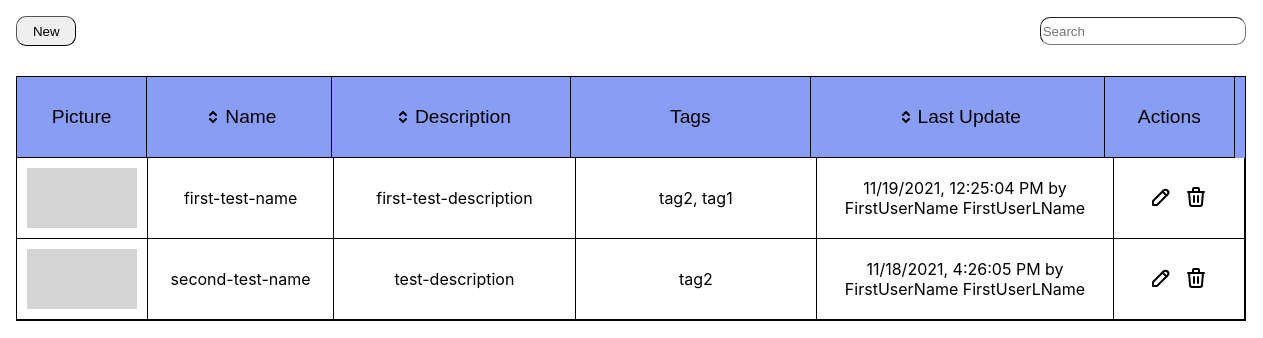
Test: search model › only finded model should be displayed in table
The width and height of the screenshot is (1263, 338).
Type "first-test-name" into the field with placeholder "Search" at (1143, 31), box [1040,17,1246,45]
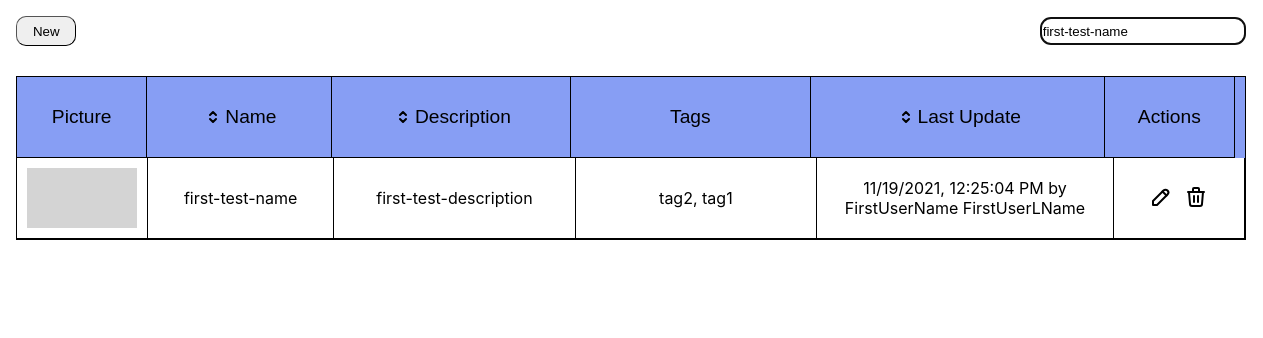
Expected: the text "first-test-name" is shown, [148,158,334,239]
Now the text "second-test-name" is gone
